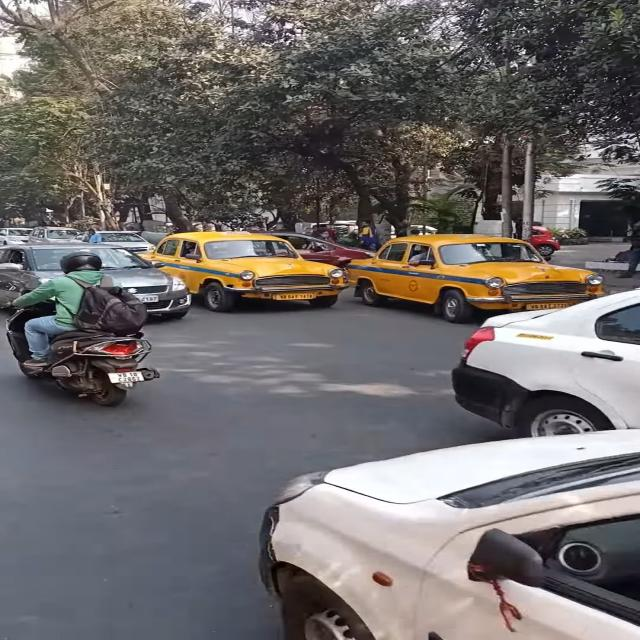Taxi: (347, 229, 613, 314), (168, 225, 357, 309)
